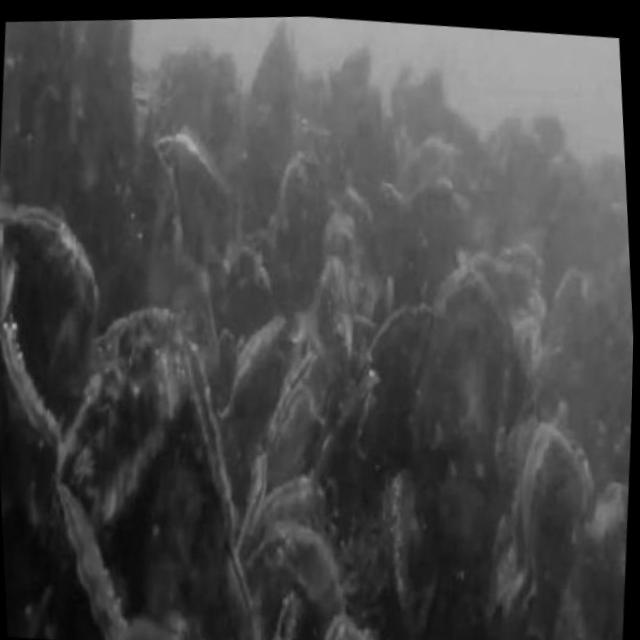Oyster-Closed: (48, 296, 267, 640), (0, 191, 112, 440), (486, 404, 604, 588), (39, 464, 134, 640), (357, 462, 428, 640), (0, 310, 63, 458), (235, 466, 338, 539), (262, 355, 327, 467), (310, 258, 373, 364), (234, 310, 284, 398), (255, 587, 309, 640), (311, 611, 369, 640)
Oyster-Indeterminate: (415, 264, 527, 496), (241, 515, 361, 637), (155, 127, 257, 265), (138, 241, 226, 358), (264, 146, 339, 271), (357, 173, 428, 293), (121, 136, 197, 248), (403, 169, 467, 287), (206, 228, 278, 320), (316, 206, 377, 304), (329, 182, 386, 284), (494, 241, 558, 310), (462, 241, 522, 311)
Oyster-Open: (478, 559, 544, 640)
